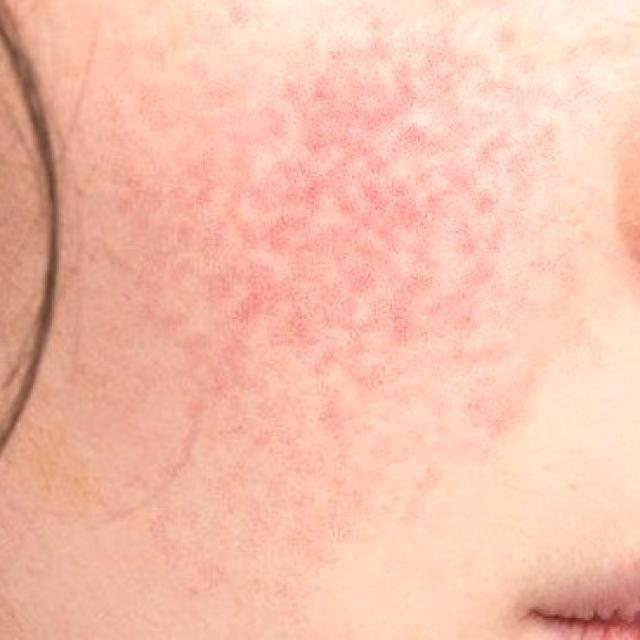Rosacea: (98, 26, 559, 447)
